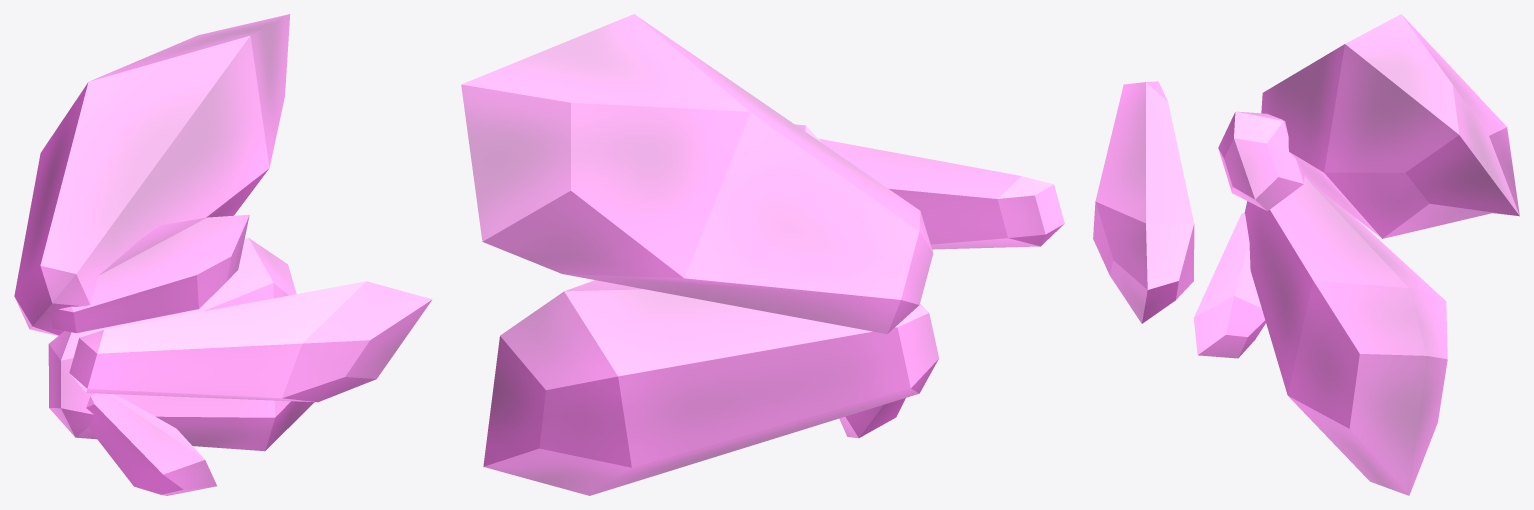
Rendered from Cristal_gem.000.fbx.
3 views of the same model, side by side, from view 1: azimuth 30°, elevation 25°; view 2: azimuth 150°, elevation 25°; view 3: azimuth 270°, elevation 25° (orthographic). The views are drawn at different scales.
Parts seen in each view (by area): view 1: Crystal_gem.000; view 2: Crystal_gem.000; view 3: Crystal_gem.000.
Part boxes in pixels (x1=…): Crystal_gem.000: x1=14, y1=14, x2=432, y2=495; Crystal_gem.000: x1=461, y1=14, x2=1064, y2=495; Crystal_gem.000: x1=1093, y1=14, x2=1519, y2=495.
Bounding box in the file's own units: 111 × 121 × 110.
